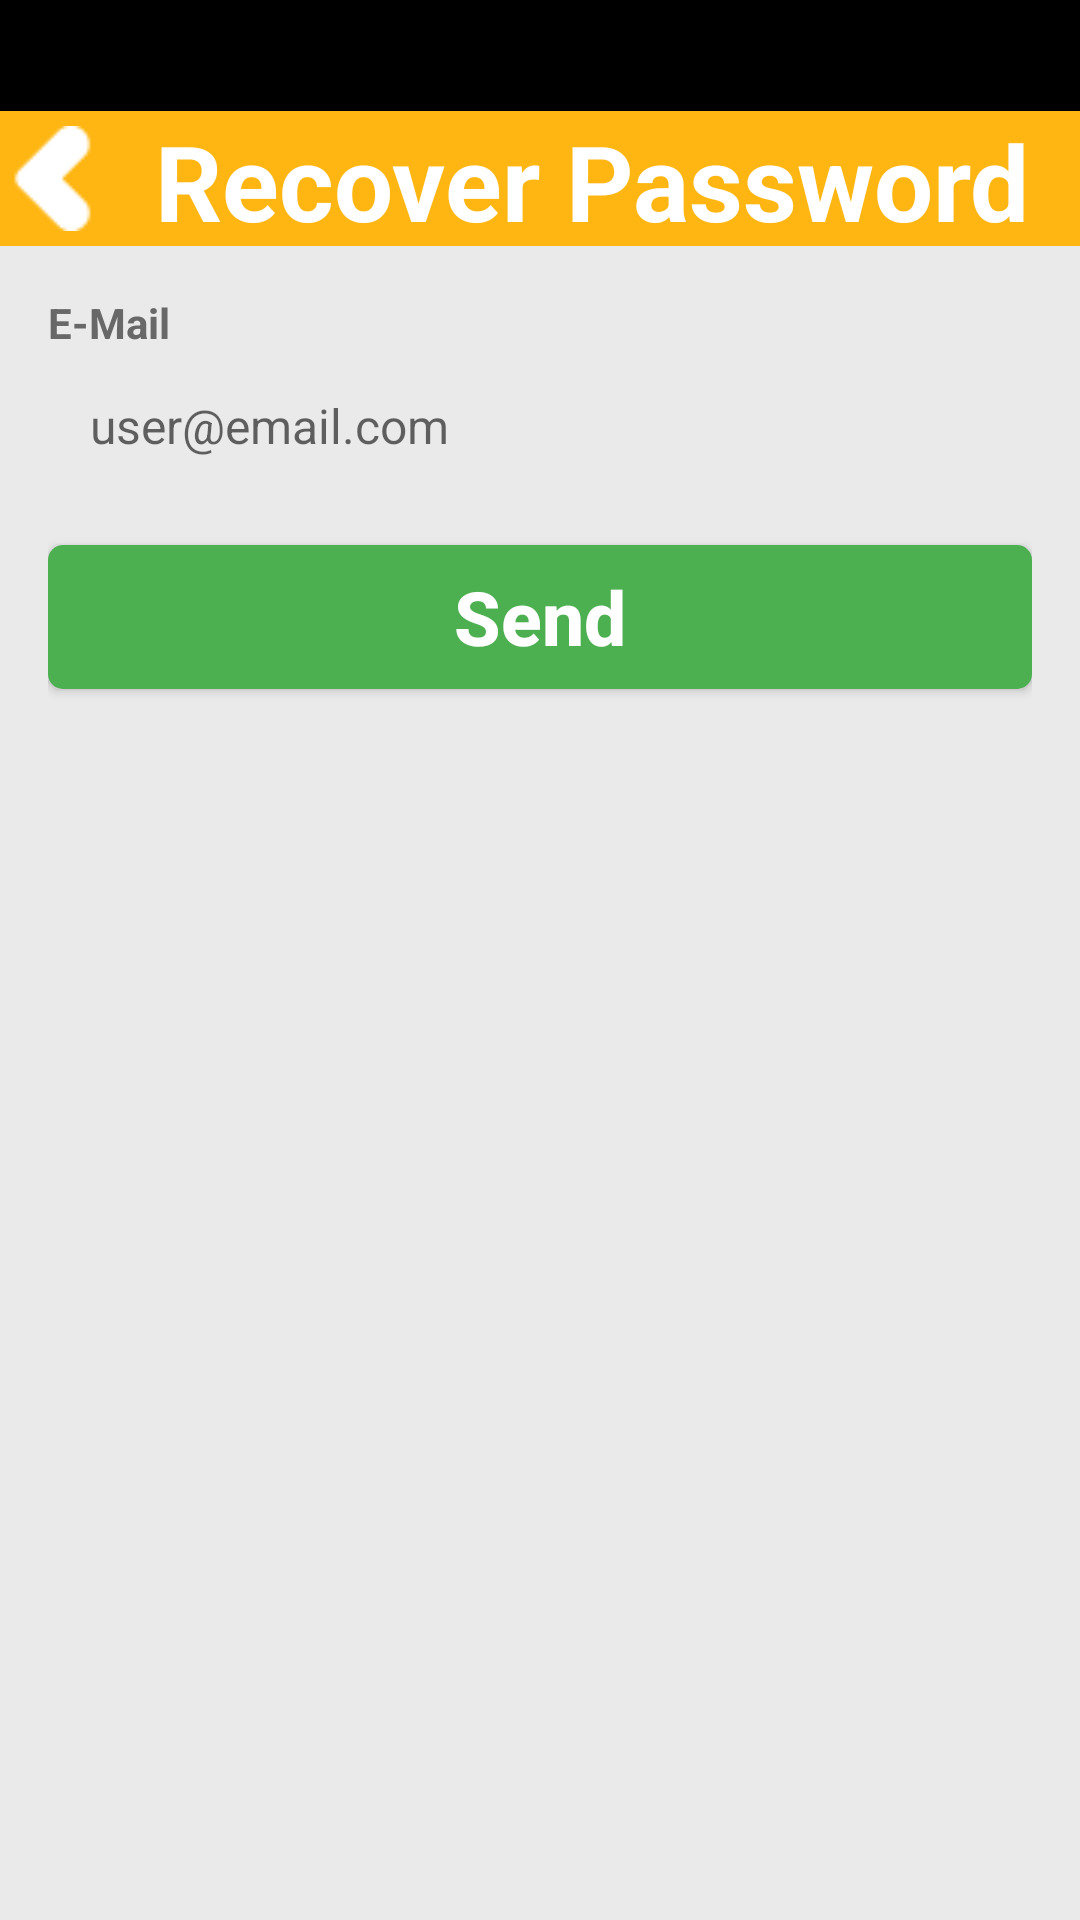

Screen size 1080 × 1920. Icon name, then its center in pixels as point (x, y):
arrow: point (52, 178)
